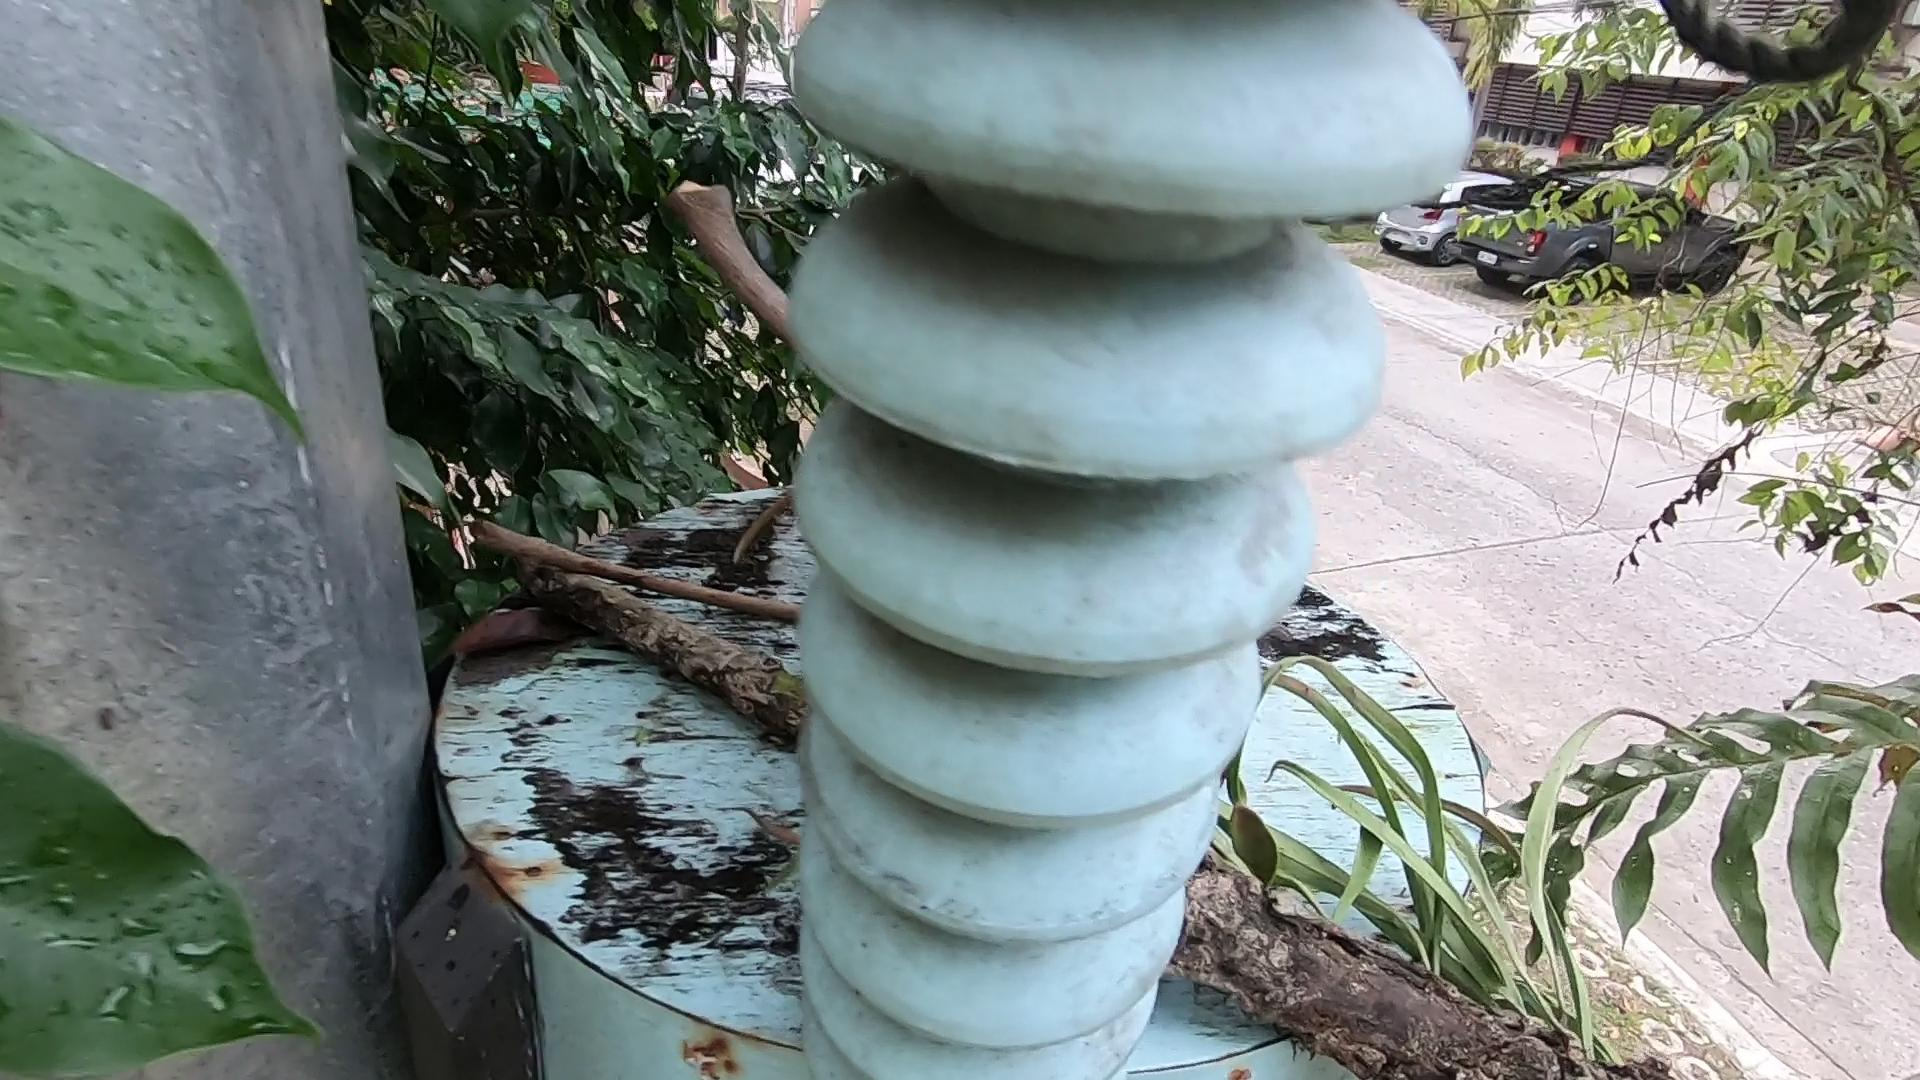branch with leaves: (512, 551, 1563, 1065)
leaf: (406, 539, 612, 698)
tree branch: (465, 521, 841, 634), (684, 179, 796, 359)
